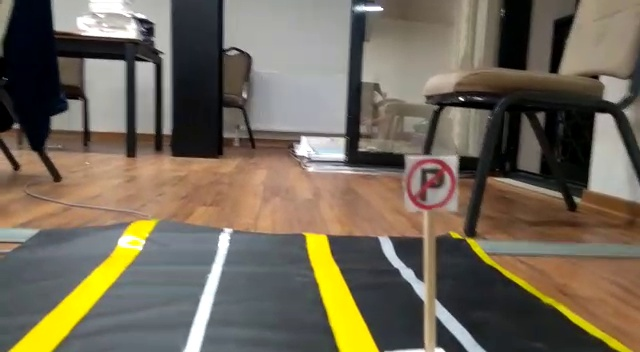park_yapilmaz: (402, 154, 469, 214)
